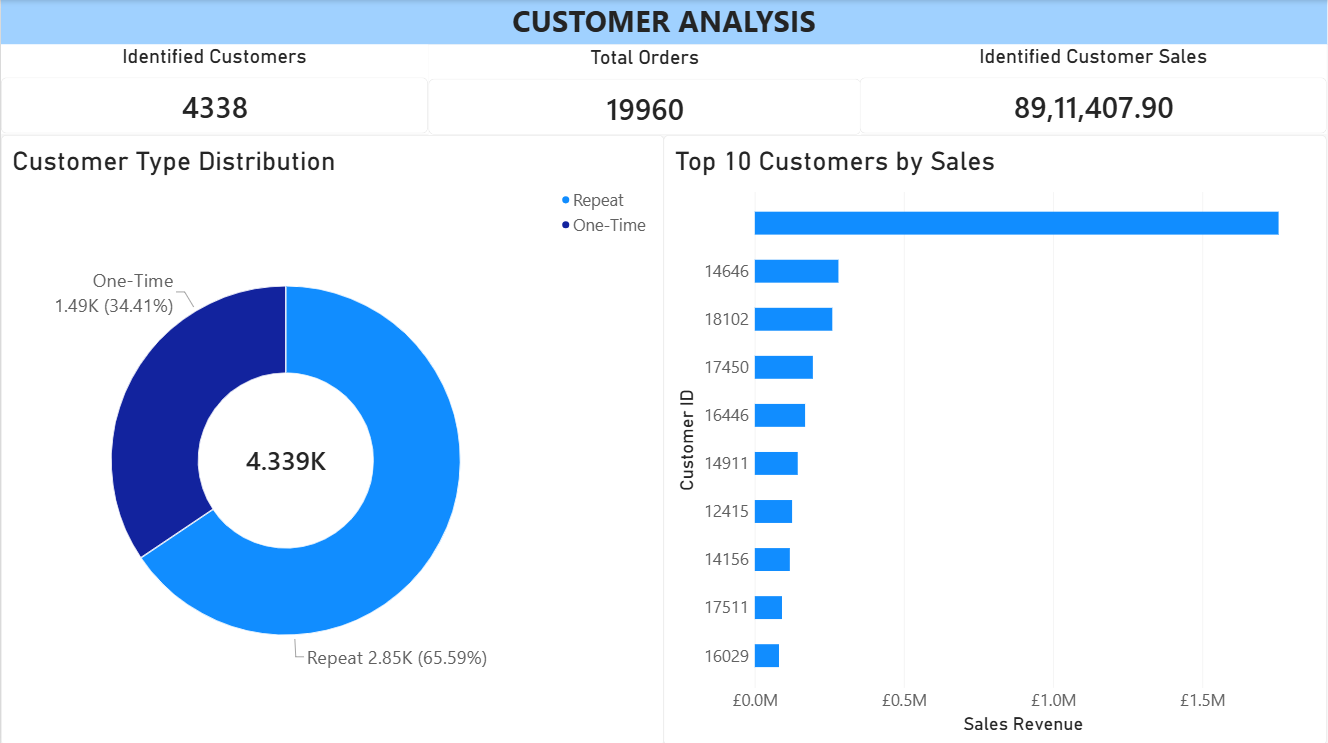

What the dashboard file says about the page in this screenshot:
{"tool":"powerbi","page":{"name":"Customer Analysis","canvas":[1920,1080],"ordinal":2},"visuals":[{"type":"cardVisual","title":"Identified Customers","fields":{"Data":["online_retail_clean.Identified Customers"]},"box":[0,64,618,130],"z":0},{"type":"cardVisual","title":"Total Orders","fields":{"Data":["online_retail_clean.Orders"]},"box":[618,66,626,130],"z":1000},{"type":"cardVisual","title":"Identified Customer Sales","fields":{"Data":["online_retail_clean.Identified Customer Sales"]},"box":[1244,64,676,130],"z":2000},{"type":"donutChart","title":"Customer Type Distribution","fields":{"Category":["online_retail_clean.Customer Type"],"Y":["Count(online_retail_clean.CustomerID)"]},"box":[0,196,960,884],"z":3000},{"type":"barChart","title":"Top 10 Customers by Sales","fields":{"Category":["online_retail_clean.CustomerID"],"Y":["online_retail_clean.SalesRevenue"]},"box":[960,196,960,884],"z":4000},{"type":"textbox","box":[0,0,1920,64],"z":5000}]}

Visuals, with their boxes in screenshot pixels (x1, y1, x2, y2), scaled from the page's 1920x1080 canvas onto the 1328x743 screenshot:
"Identified Customers" cardVisual: <bbox>0, 44, 427, 133</bbox>
"Total Orders" cardVisual: <bbox>427, 45, 860, 135</bbox>
"Identified Customer Sales" cardVisual: <bbox>860, 44, 1327, 133</bbox>
"Customer Type Distribution" donutChart: <bbox>0, 135, 664, 742</bbox>
"Top 10 Customers by Sales" barChart: <bbox>664, 135, 1327, 742</bbox>
textbox: <bbox>0, 0, 1327, 44</bbox>
